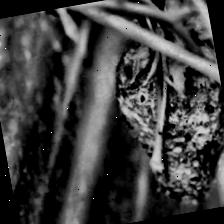Gray Mold: (100, 0, 224, 211)
